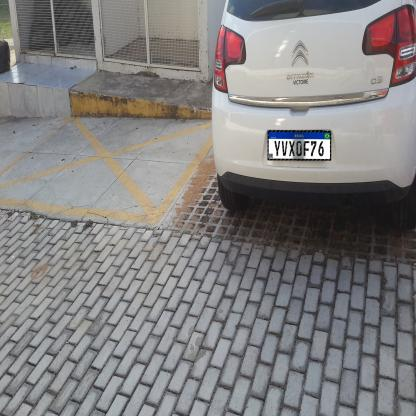PlacaM: (268, 130, 331, 161)
